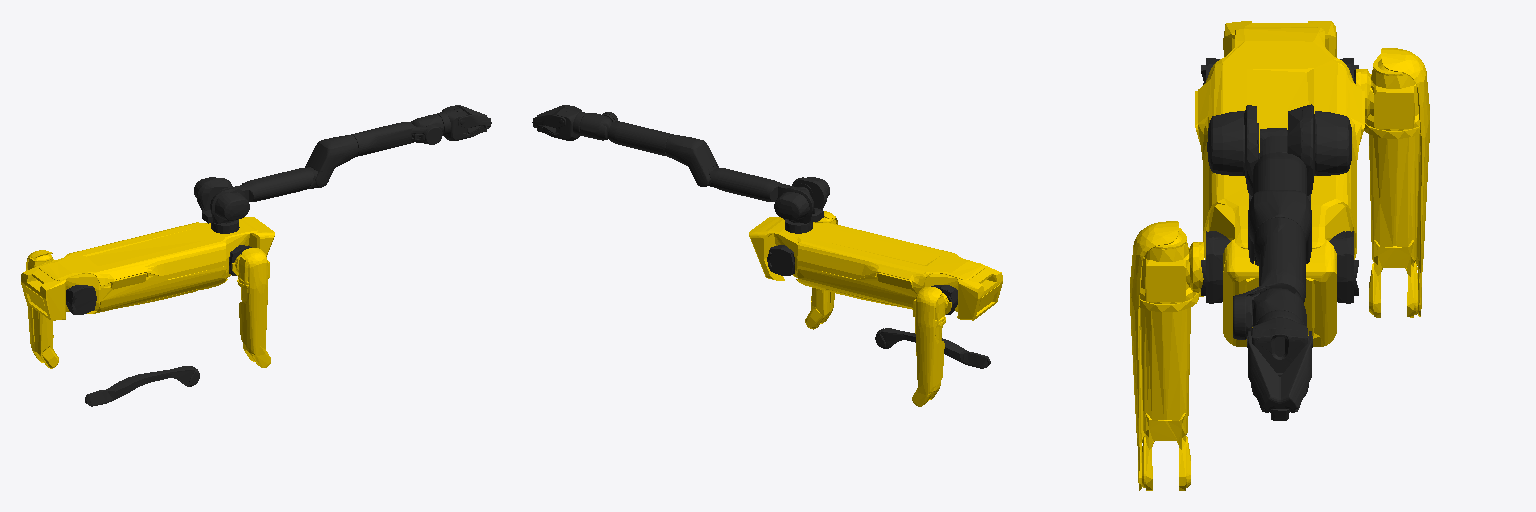
robot.urdf — spot:
<robot name="spot">
  <link name="base">
    <visual>
      <origin xyz="0 0 0" rpy="0 0 0"/>
      <geometry>
        <mesh filename="link_models/base.obj.dae"/>
      </geometry>
<material name="base"> <color rgba="1 0.8431 0 1"/></material>    </visual>
  </link>
  <link name="fl.hip">
    <visual>
      <origin xyz="0 0 0" rpy="0 0 0"/>
      <geometry>
        <mesh filename="link_models/fl.hip.obj.dae"/>
      </geometry>
<material name="fl.hip"> <color rgba="0.2 0.2 0.2 1"/></material>    </visual>
  </link>
  <joint name="fl.hx" type="revolute">
    <origin xyz="0.29785 0.05500 0.00000" rpy="0 0 0"/>
    <axis xyz="1 0 0"/>
    <parent link="base"/>
    <child link="fl.hip"/>
     <limit effort="1000" velocity="1000.00" lower="-0.797251" upper="0.776976"/>
  </joint>
  <link name="fl.uleg">
    <visual>
      <origin xyz="0 0 0" rpy="0 0 0"/>
      <geometry>
        <mesh filename="link_models/fl.uleg.obj.dae"/>
      </geometry>
<material name="fl.uleg"> <color rgba="1 0.8431 0 1"/></material>    </visual>
  </link>
  <joint name="fl.hy" type="revolute">
    <origin xyz="0.0 0.110945 0.0" rpy="0 0 0"/>
    <axis xyz="0 1      0"/>
    <parent link="fl.hip"/>
    <child link="fl.uleg"/>
     <limit effort="1000" velocity="1000.00" lower="-0.883319" upper="2.25879"/>
  </joint>
  <link name="fl.lleg">
    <visual>
      <origin xyz="0 0 0" rpy="0 0 0"/>
      <geometry>
        <mesh filename="link_models/fl.lleg.obj.dae"/>
      </geometry>
<material name="fl.lleg"> <color rgba="0.2 0.2 0.2 1"/></material>    </visual>
  </link>
  <joint name="fl.kn" type="revolute">
    <origin xyz="0.025 0.000 -0.3205" rpy="0 0 0"/>
    <axis xyz="0 1 0"/>
    <parent link="fl.uleg"/>
    <child link="fl.lleg"/>
     <limit effort="1000" velocity="1000.00" lower="-2.78854" upper="-0.286651"/>
  </joint>
  <link name="fr.hip">
    <visual>
      <origin xyz="0 0 0" rpy="0 0 0"/>
      <geometry>
        <mesh filename="link_models/fr.hip.obj.dae"/>
      </geometry>
<material name="fr.hip"> <color rgba="0.2 0.2 0.2 1"/></material>    </visual>
  </link>
  <joint name="fr.hx" type="revolute">
    <origin xyz="0.29785 -0.05500 0.00000" rpy="0 0 0"/>
    <axis xyz="1 0 0"/>
    <parent link="base"/>
    <child link="fr.hip"/>
     <limit effort="1000" velocity="1000.00" lower="-0.771618" upper="0.793562"/>
  </joint>
  <link name="fr.uleg">
    <visual>
      <origin xyz="0 0 0" rpy="0 0 0"/>
      <geometry>
        <mesh filename="link_models/fr.uleg.obj.dae"/>
      </geometry>
<material name="fr.uleg"> <color rgba="1 0.8431 0 1"/></material>    </visual>
  </link>
  <joint name="fr.hy" type="revolute">
    <origin xyz="0.0 -0.110945 0.0" rpy="0 0 0"/>
    <axis xyz="0  1      0"/>
    <parent link="fr.hip"/>
    <child link="fr.uleg"/>
     <limit effort="1000" velocity="1000.00" lower="-0.883799" upper="2.25954"/>
  </joint>
  <link name="fr.lleg">
    <visual>
      <origin xyz="0 0 0" rpy="0 0 0"/>
      <geometry>
        <mesh filename="link_models/fr.lleg.obj.dae"/>
      </geometry>
<material name="fr.lleg"> <color rgba="0.2 0.2 0.2 1"/></material>    </visual>
  </link>
  <joint name="fr.kn" type="revolute">
    <origin xyz="0.025 0.000 -0.3205" rpy="0 0 0"/>
    <axis xyz="0 1 0"/>
    <parent link="fr.uleg"/>
    <child link="fr.lleg"/>
     <limit effort="1000" velocity="1000.00" lower="-2.78124" upper="-0.285981"/>
  </joint>
  <link name="hl.hip">
    <visual>
      <origin xyz="0 0 0" rpy="0 0 0"/>
      <geometry>
        <mesh filename="link_models/hl.hip.obj.dae"/>
      </geometry>
<material name="hl.hip"> <color rgba="0.2 0.2 0.2 1"/></material>    </visual>
  </link>
  <joint name="hl.hx" type="revolute">
    <origin xyz="-0.29785 0.05500 0.00000" rpy="0 0 0"/>
    <axis xyz="1 0 0"/>
    <parent link="base"/>
    <child link="hl.hip"/>
     <limit effort="1000" velocity="1000.00" lower="-0.777343" upper="0.786276"/>
  </joint>
  <link name="hl.uleg">
    <visual>
      <origin xyz="0 0 0" rpy="0 0 0"/>
      <geometry>
        <mesh filename="link_models/hl.uleg.obj.dae"/>
      </geometry>
<material name="hl.uleg"> <color rgba="1 0.8431 0 1"/></material>    </visual>
  </link>
  <joint name="hl.hy" type="revolute">
    <origin xyz="0.0 0.110945 0.0" rpy="0 0 0"/>
    <axis xyz="0 1      0"/>
    <parent link="hl.hip"/>
    <child link="hl.uleg"/>
     <limit effort="1000" velocity="1000.00" lower="-0.880156" upper="2.25561"/>
  </joint>
  <link name="hl.lleg">
    <visual>
      <origin xyz="0 0 0" rpy="0 0 0"/>
      <geometry>
        <mesh filename="link_models/hl.lleg.obj.dae"/>
      </geometry>
<material name="hl.lleg"> <color rgba="0.2 0.2 0.2 1"/></material>    </visual>
  </link>
  <joint name="hl.kn" type="revolute">
    <origin xyz="0.025 0.000 -0.3205" rpy="0 0 0"/>
    <axis xyz="0 1 0"/>
    <parent link="hl.uleg"/>
    <child link="hl.lleg"/>
     <limit effort="1000" velocity="1000.00" lower="-2.79882" upper="-0.281895"/>
  </joint>
  <link name="hr.hip">
    <visual>
      <origin xyz="0 0 0" rpy="0 0 0"/>
      <geometry>
        <mesh filename="link_models/hr.hip.obj.dae"/>
      </geometry>
<material name="hr.hip"> <color rgba="0.2 0.2 0.2 1"/></material>    </visual>
  </link>
  <joint name="hr.hx" type="revolute">
    <origin xyz="-0.29785 -0.05500 0.00000" rpy="0 0 0"/>
    <axis xyz="1 0 0"/>
    <parent link="base"/>
    <child link="hr.hip"/>
     <limit effort="1000" velocity="1000.00" lower="-0.784536" upper="0.787208"/>
  </joint>
  <link name="hr.uleg">
    <visual>
      <origin xyz="0 0 0" rpy="0 0 0"/>
      <geometry>
        <mesh filename="link_models/hr.uleg.obj.dae"/>
      </geometry>
<material name="hr.uleg"> <color rgba="1 0.8431 0 1"/></material>    </visual>
  </link>
  <joint name="hr.hy" type="revolute">
    <origin xyz="0.0 -0.110945 0.0" rpy="0 0 0"/>
    <axis xyz="0  1      0"/>
    <parent link="hr.hip"/>
    <child link="hr.uleg"/>
     <limit effort="1000" velocity="1000.00" lower="-0.872022" upper="2.26929"/>
  </joint>
  <link name="hr.lleg">
    <visual>
      <origin xyz="0 0 0" rpy="0 0 0"/>
      <geometry>
        <mesh filename="link_models/hr.lleg.obj.dae"/>
      </geometry>
<material name="hr.lleg"> <color rgba="0.2 0.2 0.2 1"/></material>    </visual>
  </link>
  <joint name="hr.kn" type="revolute">
    <origin xyz="0.025 0.000 -0.3205" rpy="0 0 0"/>
    <axis xyz="0 1 0"/>
    <parent link="hr.uleg"/>
    <child link="hr.lleg"/>
     <limit effort="1000" velocity="1000.00" lower="-2.79516" upper="-0.300506"/>
  </joint>
  <link name="arm0.link_sh0">
    <visual>
      <origin xyz="0 0 0" rpy="0 0 0"/>
      <geometry>
        <mesh filename="link_models/arm0.link_sh0.obj.dae"/>
      </geometry>
<material name="arm0.link_sh0"> <color rgba="0.2 0.2 0.2 1"/></material>    </visual>
  </link>
  <joint name="arm0.sh0" type="revolute">
    <origin xyz="0.292 0.0 0.188" rpy="0 0 0"/>
    <axis xyz="0 0 1"/>
    <parent link="base"/>
    <child link="arm0.link_sh0"/>
     <limit effort="1000" velocity="1000.00" lower="-2.61799387799149441136" upper="3.14159265358979311599"/>
  </joint>
  <link name="arm0.link_sh1">
    <visual>
      <origin xyz="0 0 0" rpy="0 0 0"/>
      <geometry>
        <mesh filename="link_models/arm0.link_sh1.obj.dae"/>
      </geometry>
<material name="arm0.link_sh1"> <color rgba="0.2 0.2 0.2 1"/></material>    </visual>
  </link>
  <joint name="arm0.sh1" type="revolute">
    <origin xyz="0.0 0.0 0.0" rpy="0 0 0"/>
    <axis xyz="0 1 0"/>
    <parent link="arm0.link_sh0"/>
    <child link="arm0.link_sh1"/>
     <limit effort="1000" velocity="1000.00" lower="-3.14159265358979311599" upper="0.52359877559829881565"/>
  </joint>
  <link name="arm0.link_hr0">
    <visual>
      <origin xyz="0 0 0" rpy="0 0 0"/>
      <geometry>
        <mesh filename="link_models/arm0.link_hr0.obj.dae"/>
      </geometry>
<material name="arm0.link_hr0"> <color rgba="0.2 0.2 0.2 1"/></material>    </visual>
  </link>
  <joint name="arm0.hr0" type="revolute">
    <origin xyz="0.0 0.0 0.0" rpy="0 0 0"/>
    <axis xyz="1 0 0"/>
    <parent link="arm0.link_sh1"/>
    <child link="arm0.link_hr0"/>
     <limit effort="1000" velocity="1000.00" lower="-1e6" upper="1e6"/>
  </joint>
  <link name="arm0.link_el0">
    <visual>
      <origin xyz="0 0 0" rpy="0 0 0"/>
      <geometry>
        <mesh filename="link_models/arm0.link_el0.obj.dae"/>
      </geometry>
<material name="arm0.link_el0"> <color rgba="0.2 0.2 0.2 1"/></material>    </visual>
  </link>
  <joint name="arm0.el0" type="revolute">
    <origin xyz="0.3385 0 0" rpy="0 0 0"/>
    <axis xyz="0 1 0"/>
    <parent link="arm0.link_hr0"/>
    <child link="arm0.link_el0"/>
     <limit effort="1000" velocity="1000.00" lower="0" upper="3.14159265358979311599"/>
  </joint>
  <link name="arm0.link_el1">
    <visual>
      <origin xyz="0 0 0" rpy="0 0 0"/>
      <geometry>
        <mesh filename="link_models/arm0.link_el1.obj.dae"/>
      </geometry>
<material name="arm0.link_el1"> <color rgba="0.2 0.2 0.2 1"/></material>    </visual>
  </link>
  <joint name="arm0.el1" type="revolute">
    <origin xyz="0.40330 0.0 0.0750" rpy="0 0 0"/>
    <axis xyz="1 0 0"/>
    <parent link="arm0.link_el0"/>
    <child link="arm0.link_el1"/>
     <limit effort="1000" velocity="1000.00" lower="-2.79252680319092716487" upper="2.79252680319092716487"/>
  </joint>
  <link name="arm0.link_wr0">
    <visual>
      <origin xyz="0 0 0" rpy="0 0 0"/>
      <geometry>
        <mesh filename="link_models/arm0.link_wr0.obj.dae"/>
      </geometry>
<material name="arm0.link_wr0"> <color rgba="0.2 0.2 0.2 1"/></material>    </visual>
  </link>
  <joint name="arm0.wr0" type="revolute">
    <origin xyz="0.0 0.0 0.0" rpy="0 0 0"/>
    <axis xyz="0 1 0"/>
    <parent link="arm0.link_el1"/>
    <child link="arm0.link_wr0"/>
     <limit effort="1000" velocity="1000.00" lower="-1.83259571459404613236" upper="1.83259571459404613236"/>
  </joint>
  <link name="arm0.link_wr1">
    <visual>
      <origin xyz="0 0 0" rpy="0 0 0"/>
      <geometry>
        <mesh filename="link_models/arm0.link_wr1.obj.dae"/>
      </geometry>
<material name="arm0.link_wr1"> <color rgba="0.2 0.2 0.2 1"/></material>    </visual>
  </link>
  <joint name="arm0.wr1" type="revolute">
    <origin xyz="0.0 0.0 0.0" rpy="0 0 0"/>
    <axis xyz="1 0 0"/>
    <parent link="arm0.link_wr0"/>
    <child link="arm0.link_wr1"/>
     <limit effort="1000" velocity="1000.00" lower="-2.87979326579064354163" upper="2.87979326579064354163"/>
  </joint>
  <link name="arm0.link_fngr">
    <visual>
      <origin xyz="0 0 0" rpy="0 0 0"/>
      <geometry>
        <mesh filename="link_models/arm0.link_fngr.obj.dae"/>
      </geometry>
<material name="arm0.link_fngr"> <color rgba="0.2 0.2 0.2 1"/></material>    </visual>
  </link>
  <joint name="arm0.f1x" type="revolute">
    <origin xyz="0.11745 0 0.014820" rpy="0 0 0"/>
    <axis xyz="0.0 1.0 0.0"/>
    <parent link="arm0.link_wr1"/>
    <child link="arm0.link_fngr"/>
     <limit effort="1000" velocity="1000.00" lower="-1.57" upper="0.0"/>
  </joint>
</robot>

--- Render facts (derived) ---
3 views of the same robot in one strip: view 1: azimuth 30°, elevation 25°; view 2: azimuth 150°, elevation 25°; view 3: azimuth 270°, elevation 25° (orthographic).
Robot: spot — 21 links, 20 joints (20 revolute); root link base; default pose: all joints at 0 but 4 set to mid-range because 0 is outside their limits (fl.kn = -1.54, fr.kn = -1.53, hl.kn = -1.54, hr.kn = -1.55).
Links seen in each view (by area): view 1: base, fr.uleg, arm0.link_sh0, arm0.link_el1, arm0.link_hr0, hl.uleg, hr.lleg, arm0.link_el0, arm0.link_wr1, hr.hip; view 2: base, hl.uleg, arm0.link_sh0, arm0.link_hr0, arm0.link_el0, arm0.link_el1, hr.lleg, fr.uleg, arm0.link_wr1, arm0.link_wr0, fl.hip; view 3: base, fr.uleg, hl.uleg, arm0.link_sh0, arm0.link_el1, arm0.link_fngr, arm0.link_wr1, arm0.link_hr0, arm0.link_el0, arm0.link_wr0, fl.hip, fr.hip.
Boxes of the visible links, x1,y1,x2,y2 form: base: (21, 217, 274, 320); fr.uleg: (232, 248, 270, 367); arm0.link_sh0: (194, 177, 249, 233); arm0.link_el1: (351, 122, 442, 156); arm0.link_hr0: (220, 167, 318, 201); hl.uleg: (26, 250, 58, 368); hr.lleg: (85, 366, 199, 406); arm0.link_el0: (305, 135, 358, 187); arm0.link_wr1: (437, 106, 486, 140); hr.hip: (66, 285, 96, 314); base: (749, 217, 1002, 320); hl.uleg: (912, 286, 951, 406); arm0.link_sh0: (774, 177, 829, 233); arm0.link_hr0: (709, 165, 809, 201); arm0.link_el0: (665, 134, 718, 186); arm0.link_el1: (603, 112, 672, 155); hr.lleg: (875, 328, 990, 368); fr.uleg: (805, 211, 837, 329); arm0.link_wr1: (537, 106, 587, 140); arm0.link_wr0: (580, 113, 614, 140); fl.hip: (767, 245, 794, 275); base: (1195, 21, 1364, 346); fr.uleg: (1130, 221, 1203, 490); hl.uleg: (1356, 48, 1429, 317); arm0.link_sh0: (1207, 104, 1351, 204); arm0.link_el1: (1233, 217, 1305, 339); arm0.link_fngr: (1247, 331, 1312, 412); arm0.link_wr1: (1251, 310, 1308, 420); arm0.link_hr0: (1253, 128, 1306, 265); arm0.link_el0: (1248, 190, 1311, 263); arm0.link_wr0: (1246, 288, 1306, 338); fl.hip: (1329, 231, 1358, 303); fr.hip: (1201, 231, 1230, 303).
Size in the robot's own frame: 1.7 by 0.436 by 0.6642 metres.
Meshes: 21 distinct files referenced, 16 mesh visuals loaded (16 Collada DAE); not drawn: 5 (reference not matched to a file when rendering).